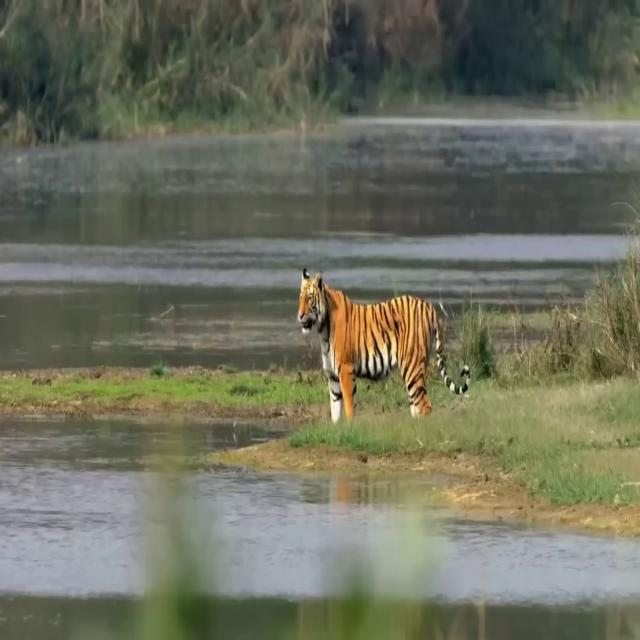tiger: (298, 267, 472, 425)
